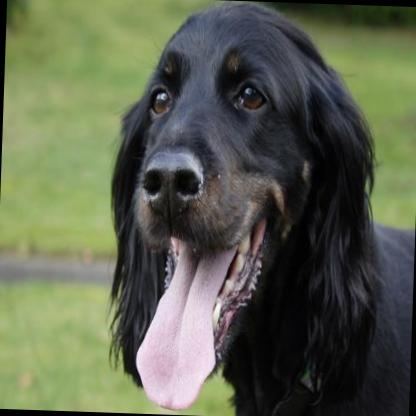Gordon_setter: (101, 0, 416, 416)
